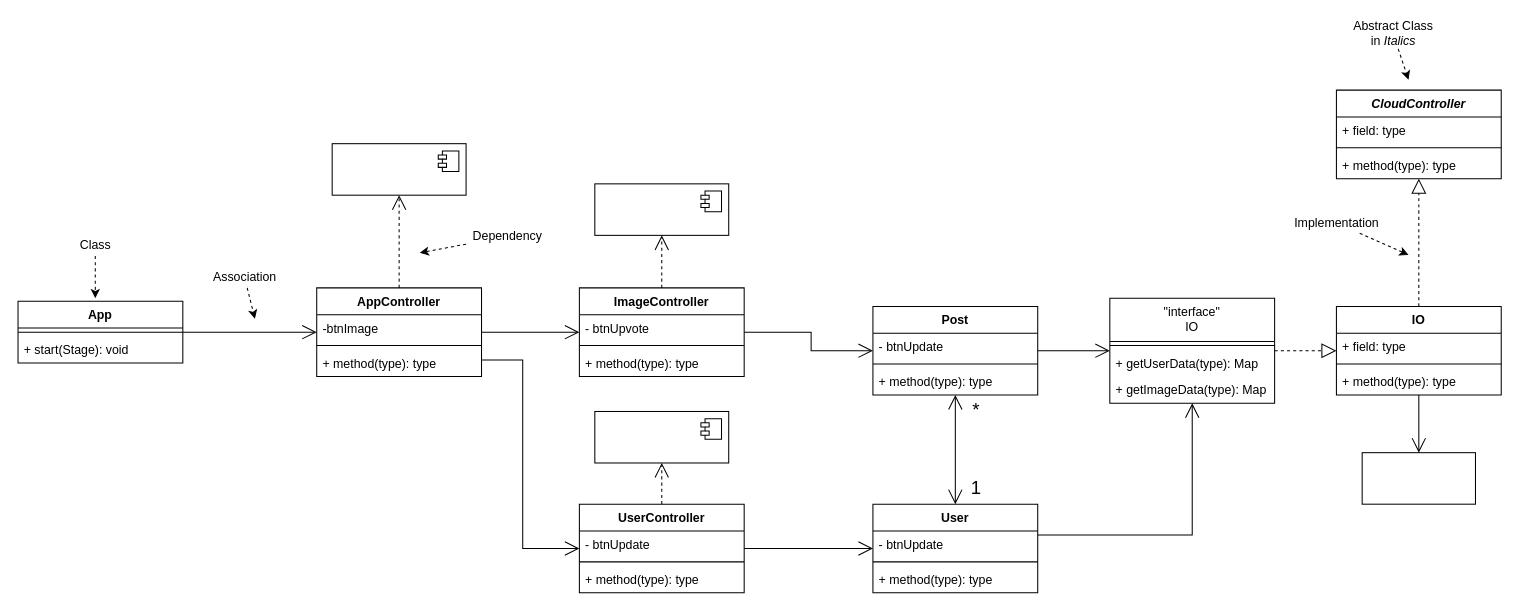
The diagram is 1519 pixels wide and 613 high, and some of its shapes have lost their labels. The centre of each missing label's shape, as x and y in pixels:
"App.xml" belongs at [398,169].
"Image.xml" belongs at [661,209].
"Jackson" belongs at [1418,478].
"User.xml" belongs at [661,436].
